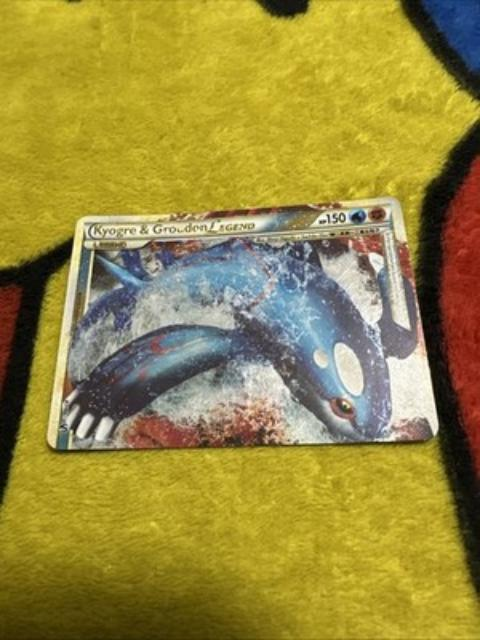Card: (43, 193, 444, 454)
Name: (84, 216, 264, 239)
